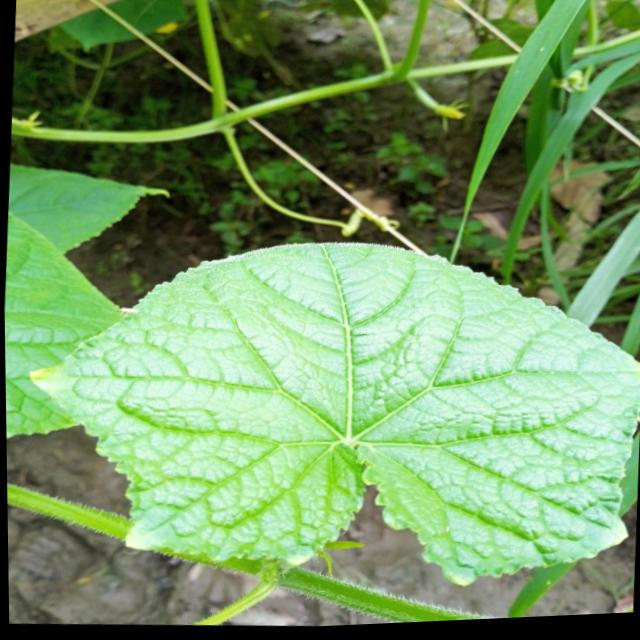Fresh-Leaf: (28, 243, 640, 589)
